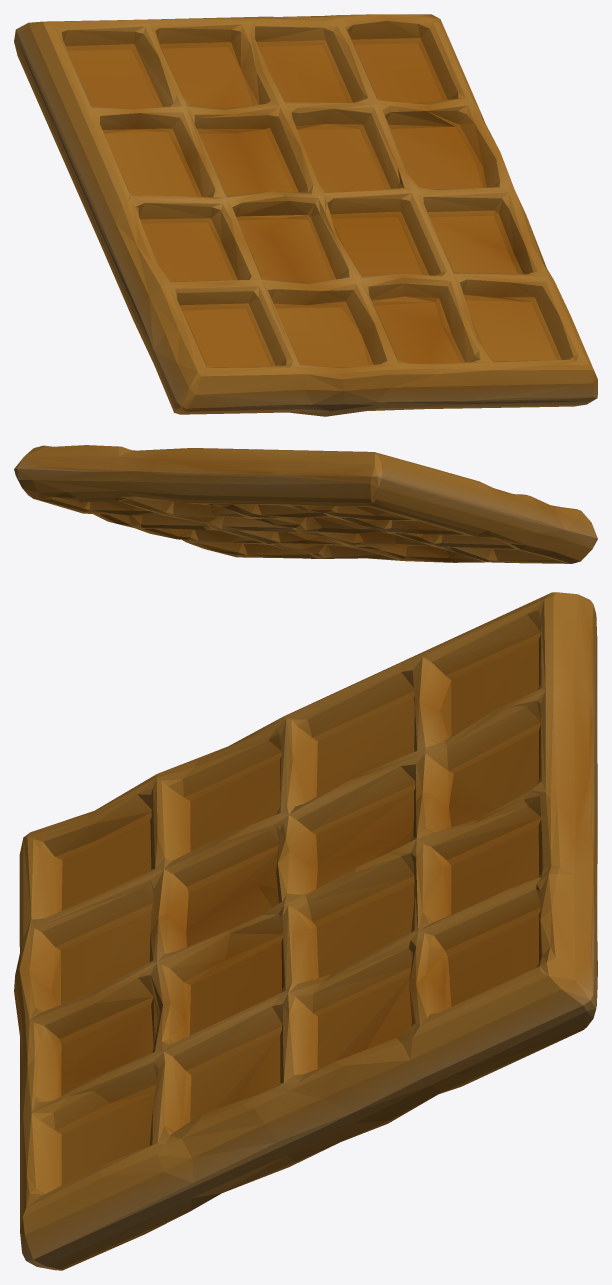
Rendered from waffle.glb.
3 views of the same model, one above another, from view 1: azimuth 30°, elevation 25°; view 2: azimuth 150°, elevation 25°; view 3: azimuth 270°, elevation 25° (orthographic). The views are drawn at different scales.
Visible parts, largest first — view 1: geometry_0; view 2: geometry_0; view 3: geometry_0.
Part boxes in pixels (x1=…): geometry_0: x1=14, y1=14, x2=597, y2=416; geometry_0: x1=14, y1=445, x2=597, y2=563; geometry_0: x1=14, y1=592, x2=597, y2=1270.
Size of the model in its own units: 1.06 by 0.7312 by 0.8569.
